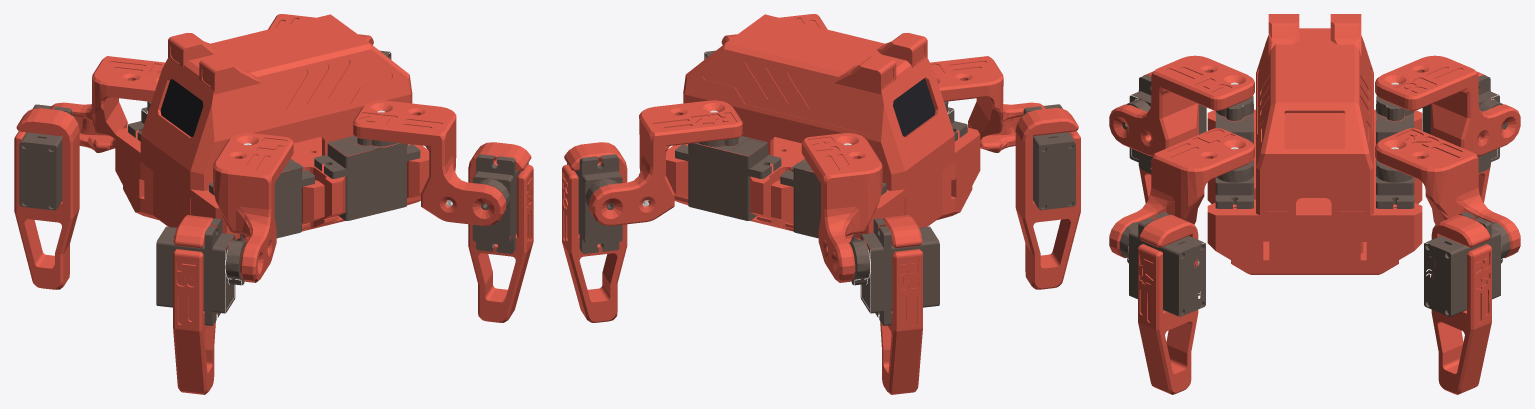
Rendered from molty.glb.
The picture shows the model from 3 angles, left to right: view 1: azimuth 30°, elevation 25°; view 2: azimuth 150°, elevation 25°; view 3: azimuth 270°, elevation 25°; orthographic projection.
Parts seen in each view (by area): view 1: body, foot_l3, foot_r3, femur_l2, foot_l4, femur_l1, femur_r1; view 2: body, foot_r3, foot_l3, femur_r2, foot_r4, femur_r1, femur_l1; view 3: body, foot_l4, foot_r4, femur_r1, femur_l1, femur_r2, femur_l2, foot_l3, foot_r3.
Boxes of the visible parts, <box> form: body: <box>115,14,429,249</box>; foot_l3: <box>156,215,246,394</box>; foot_r3: <box>14,104,79,289</box>; femur_l2: <box>353,100,506,225</box>; foot_l4: <box>468,142,533,322</box>; femur_l1: <box>213,133,293,282</box>; femur_r1: <box>50,56,164,152</box>; body: <box>666,14,980,249</box>; foot_r3: <box>849,215,939,394</box>; foot_l3: <box>1015,104,1080,289</box>; femur_r2: <box>589,100,742,225</box>; foot_r4: <box>562,142,627,322</box>; femur_r1: <box>801,133,882,282</box>; femur_l1: <box>930,56,1045,152</box>; body: <box>1207,14,1422,274</box>; foot_l4: <box>1119,212,1205,394</box>; foot_r4: <box>1424,212,1510,394</box>; femur_r1: <box>1375,55,1520,156</box>; femur_l1: <box>1109,55,1254,156</box>; femur_r2: <box>1375,128,1520,257</box>; femur_l2: <box>1109,128,1254,257</box>; foot_l3: <box>1122,71,1206,203</box>; foot_r3: <box>1422,71,1507,202</box>.
Bounding box in the file's own units: 135 × 91.99 × 130.
